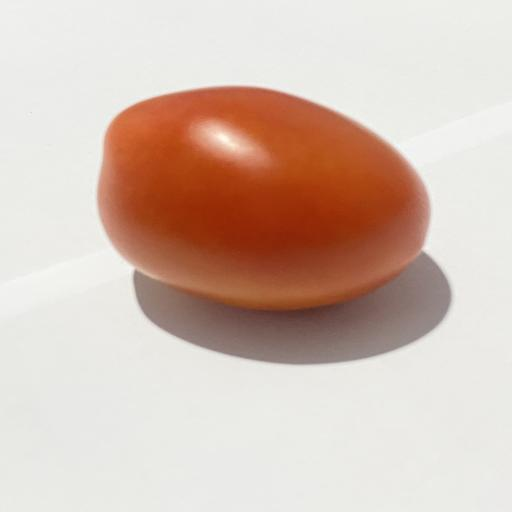ripe: (98, 87, 430, 309)
